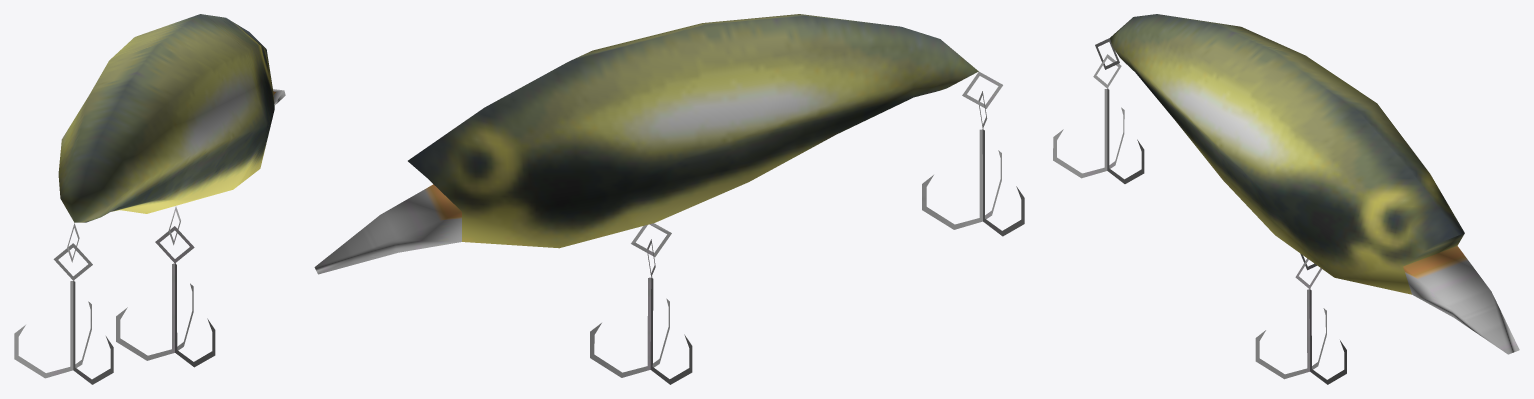
Rendered from icon.ico.obj.
3 renders of one model, left to right at view 1: azimuth 30°, elevation 25°; view 2: azimuth 150°, elevation 25°; view 3: azimuth 270°, elevation 25°, orthographic. The views are drawn at different scales.
Size of the model in its own units: 3.36 by 2.24 by 3.07.
1 material, 1 textured.
